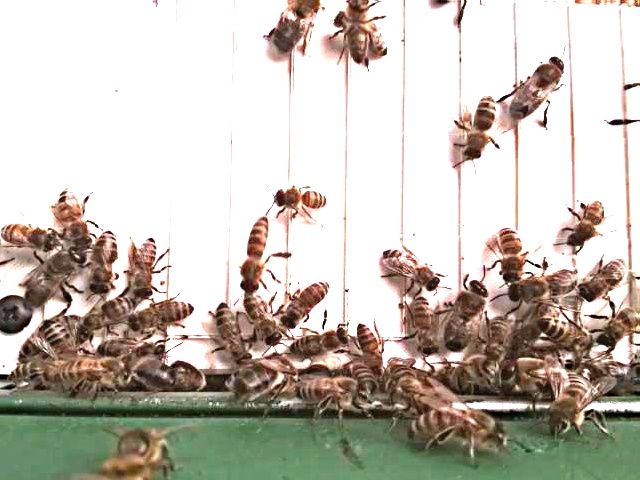Drone: (507, 52, 567, 120), (25, 245, 86, 308), (443, 276, 490, 353), (506, 264, 581, 304), (270, 0, 322, 57)
Worker: (378, 245, 442, 292), (214, 299, 255, 364), (241, 214, 273, 296), (463, 90, 499, 160), (130, 295, 197, 332), (56, 183, 93, 250), (535, 313, 598, 352), (286, 277, 332, 330), (88, 225, 120, 300), (244, 288, 286, 344), (406, 292, 443, 355), (585, 253, 632, 300), (567, 195, 610, 246), (130, 231, 162, 298), (292, 323, 349, 359), (0, 219, 58, 251), (353, 320, 388, 373), (345, 0, 372, 65), (274, 185, 332, 214), (498, 224, 526, 283)
